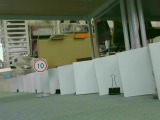speed_10: (32, 58, 48, 73)
